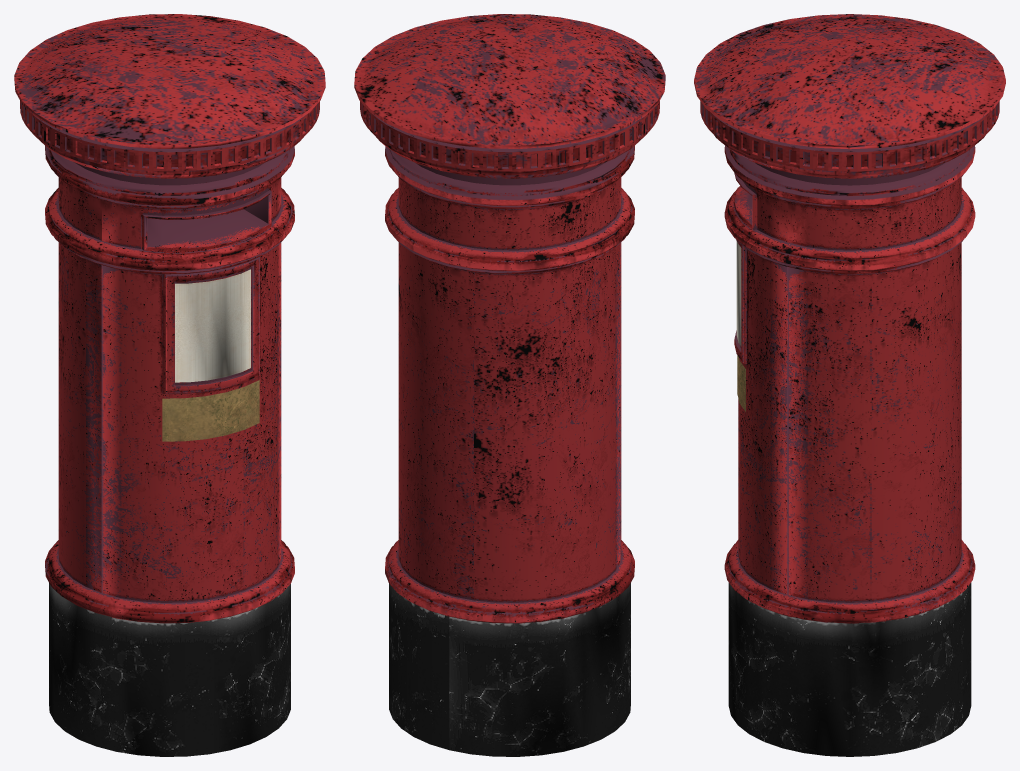
3 views of the same model, side by side, from view 1: azimuth 30°, elevation 25°; view 2: azimuth 150°, elevation 25°; view 3: azimuth 270°, elevation 25° (orthographic).
Visible parts, largest first — view 1: postbox; view 2: postbox; view 3: postbox.
Boxes of the visible parts, x1,y1,x2,y2 form: postbox: (14,14,325,756); postbox: (354,14,665,756); postbox: (694,14,1005,756).
Bounding box in the file's own units: 61.59 × 142 × 61.59.
Materials: 1 (1 with a texture image).
